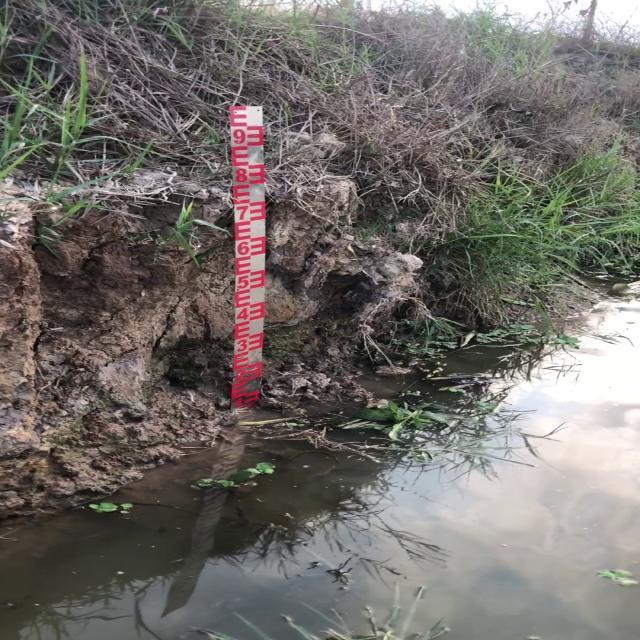ruler: (224, 91, 278, 418)
value: (229, 125, 249, 147), (232, 166, 250, 187), (234, 202, 252, 223), (235, 238, 252, 258), (235, 306, 251, 324), (236, 274, 251, 292), (235, 337, 249, 354)
